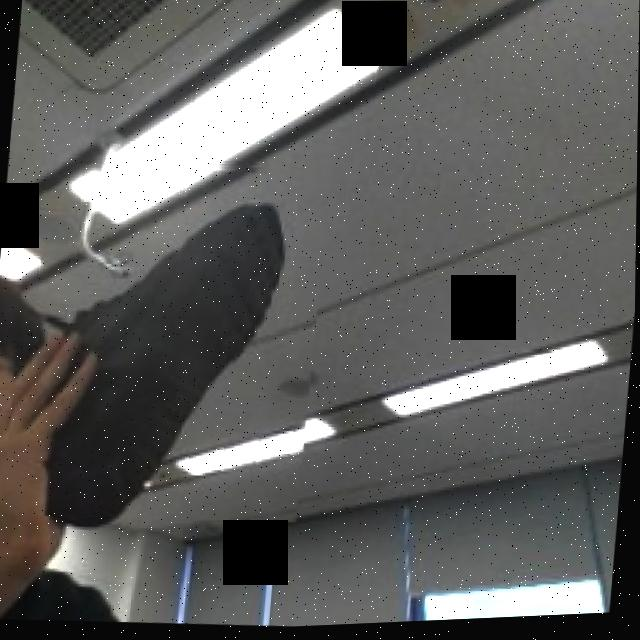shoe: (3, 144, 333, 535)
